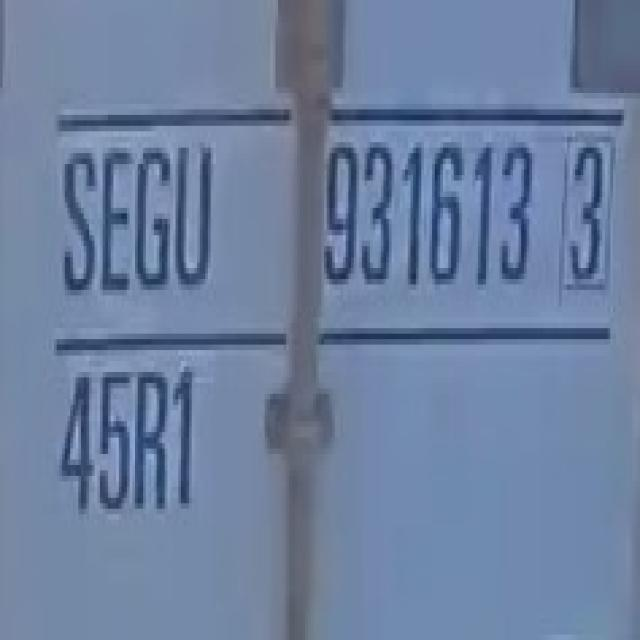dv: (552, 122, 625, 316)
owner: (43, 118, 229, 312)
serial: (320, 110, 540, 316)
size: (43, 348, 210, 536)
